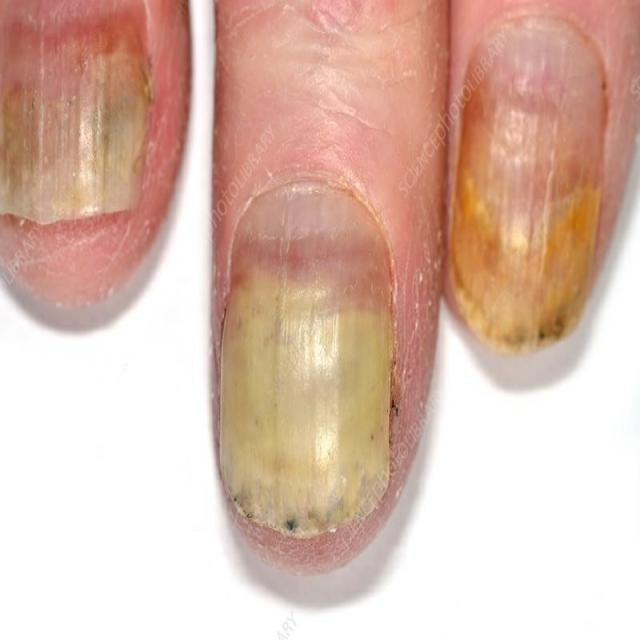diabetes: (218, 185, 393, 536), (448, 16, 605, 350), (0, 26, 149, 225)
